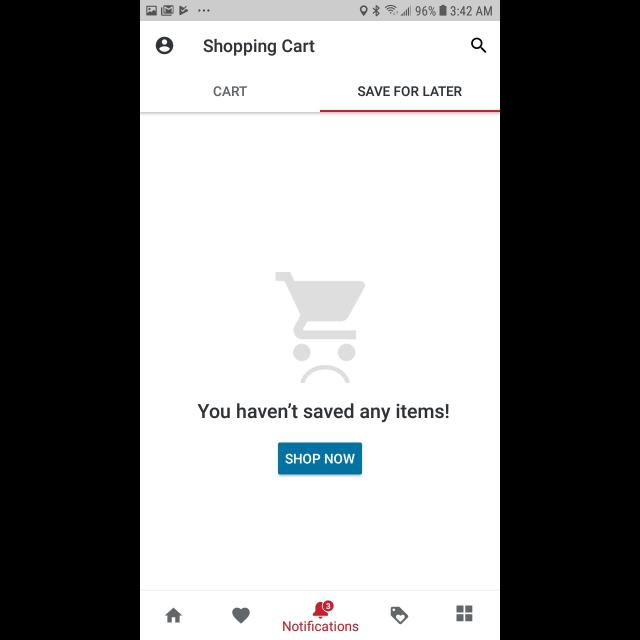icon: (312, 600, 333, 620), (156, 37, 174, 55), (391, 607, 409, 625), (233, 608, 251, 624), (471, 38, 487, 54), (457, 606, 473, 622), (165, 608, 182, 622)
image: (275, 272, 365, 383)
text: (197, 403, 448, 423), (203, 39, 314, 57), (358, 86, 462, 98), (283, 620, 359, 632), (213, 85, 247, 96)
textbutton: (278, 443, 362, 475)
uppertaskbar: (140, 1, 500, 22)
